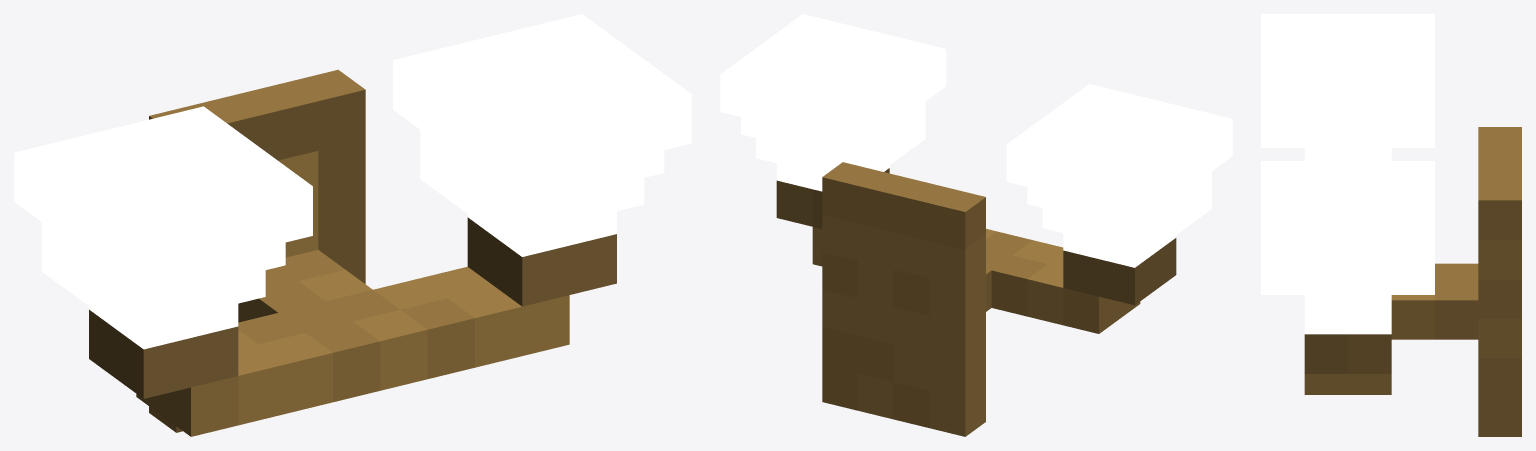
File: applique.glb
3 renders of one model, left to right at view 1: azimuth 30°, elevation 25°; view 2: azimuth 150°, elevation 25°; view 3: azimuth 270°, elevation 25°, orthographic. The views are drawn at different scales.
Visible parts, largest first — view 1: voxel__applique__ns; view 2: voxel__applique__ns; view 3: voxel__applique__ns.
Boxes of the visible parts, x1,y1,x2,y2 form: voxel__applique__ns: (14, 14, 691, 436); voxel__applique__ns: (720, 14, 1232, 436); voxel__applique__ns: (1261, 14, 1521, 436).
Bounding box in the file's own units: 0.6 × 0.35 × 0.3.
